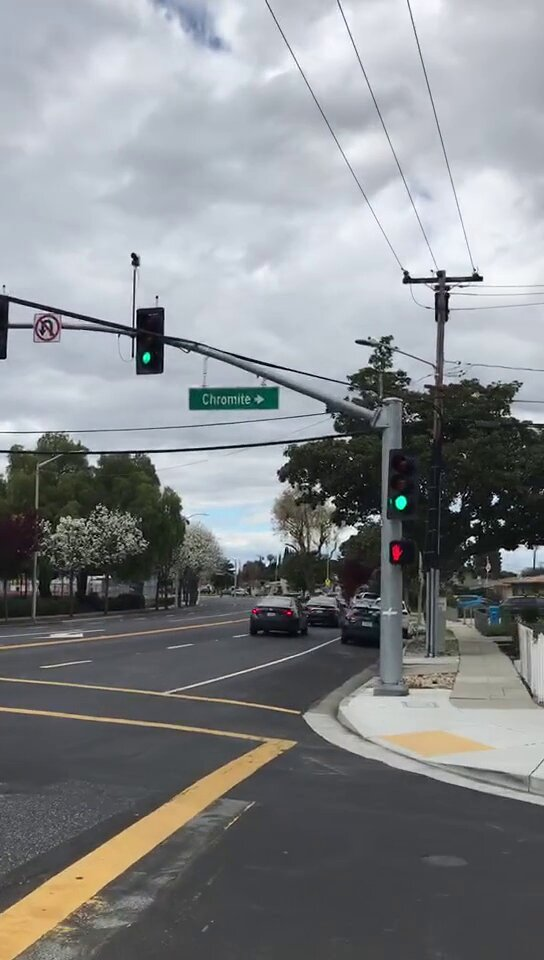green_light: (390, 449, 414, 523), (138, 309, 163, 373)
